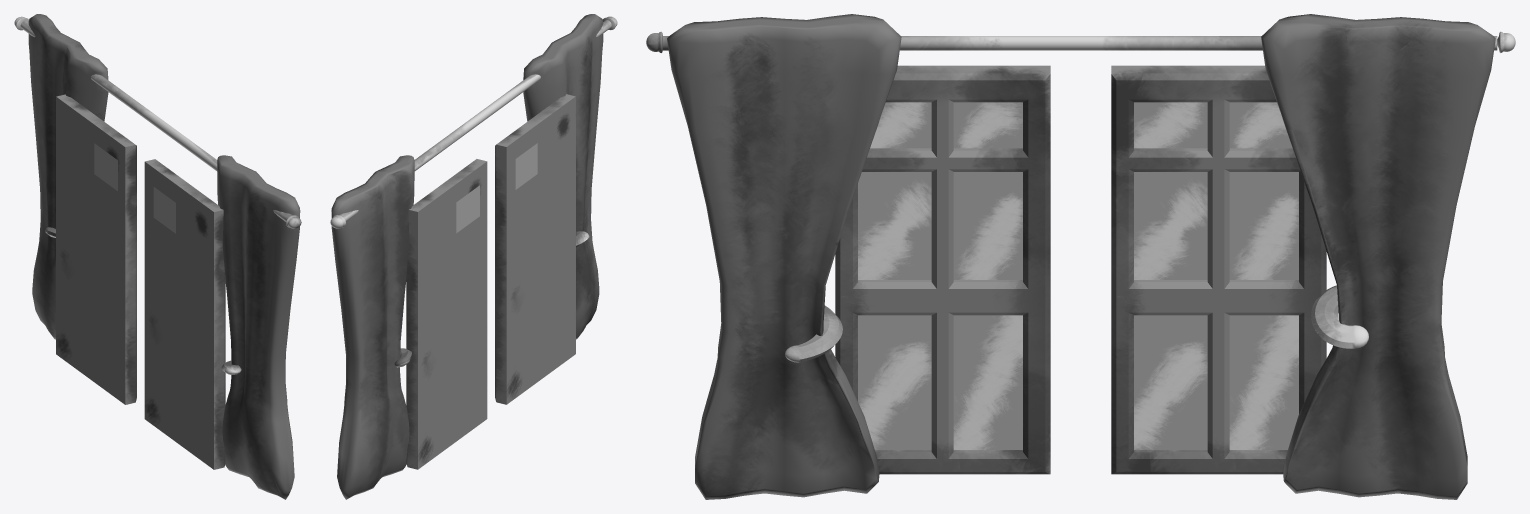
File: windows.fbx
3 renders of one model, left to right at view 1: azimuth 30°, elevation 25°; view 2: azimuth 150°, elevation 25°; view 3: azimuth 270°, elevation 25°, orthographic. The views are drawn at different scales.
Parts seen in each view (by area): view 1: right_window, left_window, left_curtain, right_curtain, curtain_rod; view 2: left_window, right_window, right_curtain, left_curtain, curtain_rod; view 3: left_window, right_window, right_curtain, left_curtain, curtain_rod, right_curtain_hook, left_curtain_hook.
Boxes of the visible parts, bbox=[...] form: right_window: bbox=[56, 94, 136, 404]; left_window: bbox=[144, 159, 225, 469]; left_curtain: bbox=[217, 155, 300, 499]; right_curtain: bbox=[28, 14, 108, 339]; curtain_rod: bbox=[14, 16, 301, 228]; left_window: bbox=[495, 94, 575, 404]; right_window: bbox=[406, 159, 487, 469]; right_curtain: bbox=[331, 155, 414, 499]; left_curtain: bbox=[523, 14, 603, 339]; curtain_rod: bbox=[330, 16, 617, 228]; left_window: bbox=[835, 65, 1050, 474]; right_window: bbox=[1111, 65, 1326, 474]; right_curtain: bbox=[1261, 14, 1495, 499]; left_curtain: bbox=[667, 14, 901, 499]; curtain_rod: bbox=[646, 31, 1515, 52]; right_curtain_hook: bbox=[1311, 285, 1368, 348]; left_curtain_hook: bbox=[785, 305, 842, 362].
Bounding box in the file's own units: 58.65 × 329 × 548.
4 materials, 4 textured.
